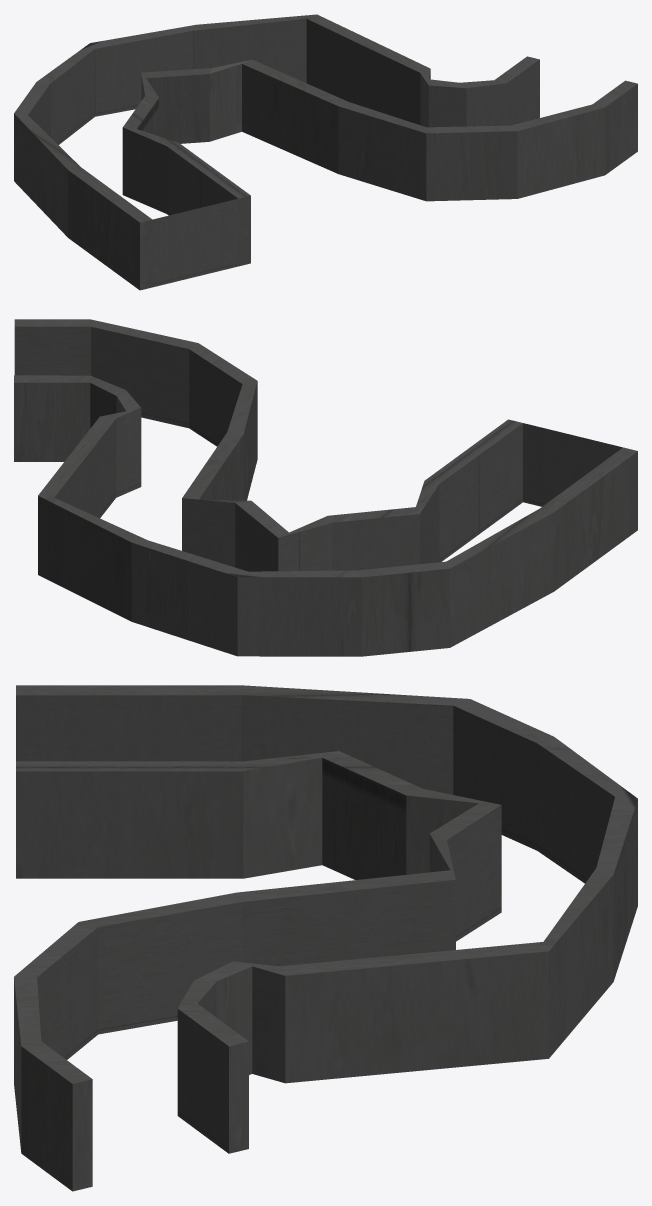
3 renders of one model, top to bottom at view 1: azimuth 30°, elevation 25°; view 2: azimuth 150°, elevation 25°; view 3: azimuth 270°, elevation 25°, orthographic. The views are drawn at different scales.
Parts seen in each view (by area): view 1: Cube; view 2: Cube; view 3: Cube.
Boxes of the visible parts, <box> form: Cube: <box>14,14,637,290</box>; Cube: <box>14,319,637,656</box>; Cube: <box>14,685,637,1191</box>.
Size of the model in its own units: 33.79 by 4.51 by 22.35.
Materials: 1 (1 with a texture image).
